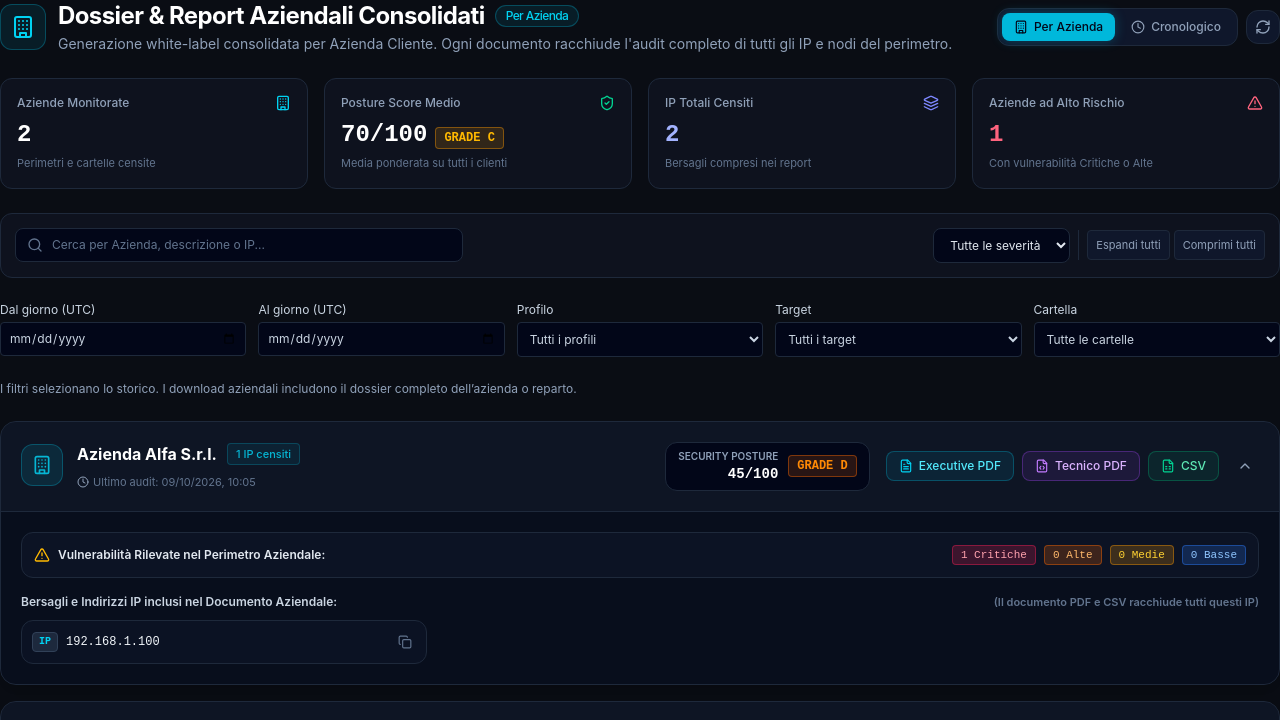
Scenario: Reports Page - Multi-Company Scope & Target IP Inspection › allows collapsing and expanding company accordions
Check: the text "192.168.1.100" is shown, box [66,634,160,650]
Note: Clicca sull'header di Alfa per collassare l'accordion
Click the heading "Azienda Alfa S.r.l." at (147, 454), box [77,442,217,466]
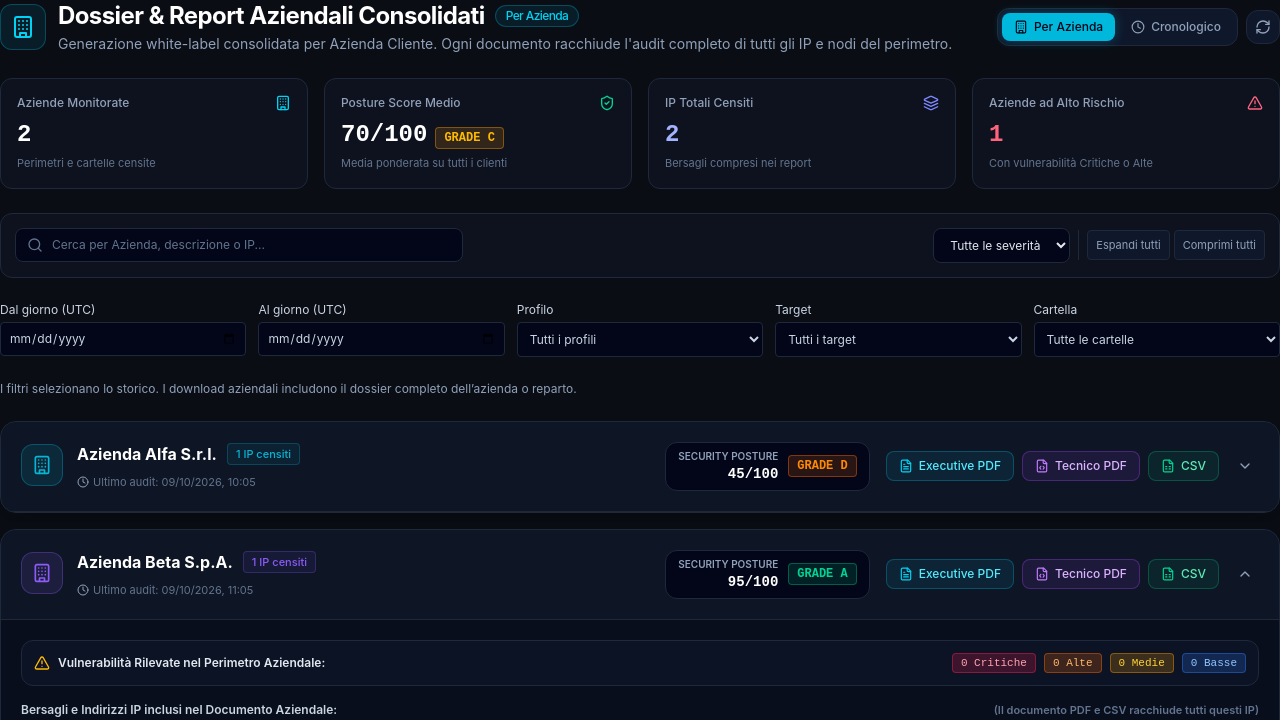
Check: the text "192.168.1.100" is gone
Note: Clicca nuovamente per riaprire
Click the heading "Azienda Alfa S.r.l." at (147, 454), box [77,442,217,466]
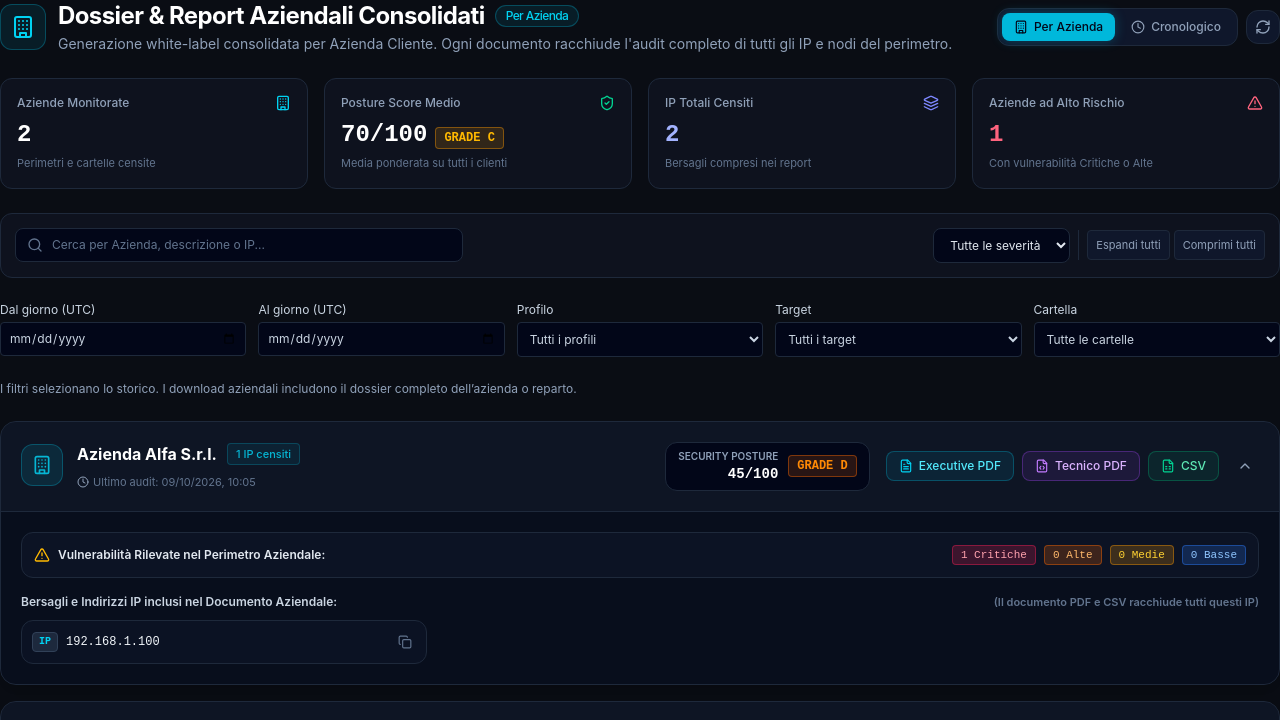
Check: the text "192.168.1.100" is shown, box [66,634,160,650]
